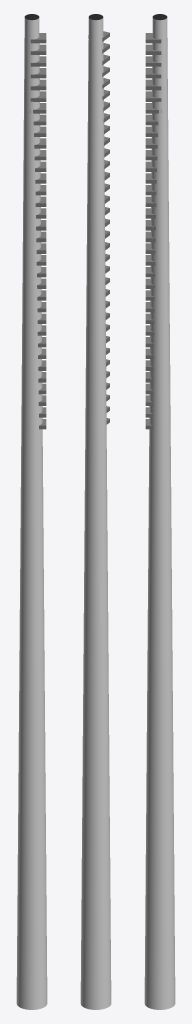
Rendered from Factory (tower 2).fbx.
The picture shows the model from 3 angles, left to right: view 1: azimuth 90°, elevation 25°; view 2: azimuth 150°, elevation 25°; view 3: azimuth 270°, elevation 25°; orthographic projection.
Visible parts, largest first — view 1: Factory (tower 2); view 2: Factory (tower 2); view 3: Factory (tower 2).
Part boxes in pixels (box(x1,y1,x2,y2)): Factory (tower 2): box(16, 14, 47, 1009); Factory (tower 2): box(80, 14, 111, 1009); Factory (tower 2): box(144, 14, 175, 1009).
Size of the model in its own units: 358 by 12653 by 358.
